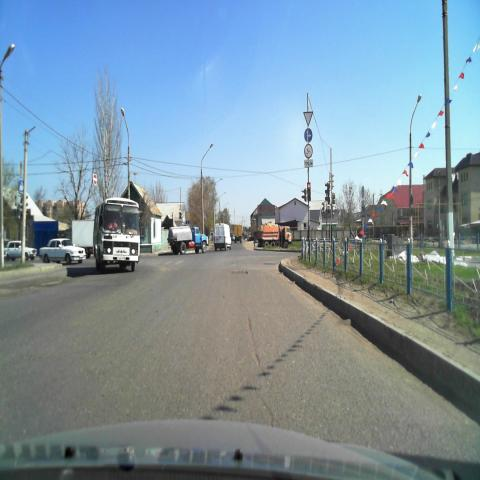3_11: (304, 144, 314, 160)
